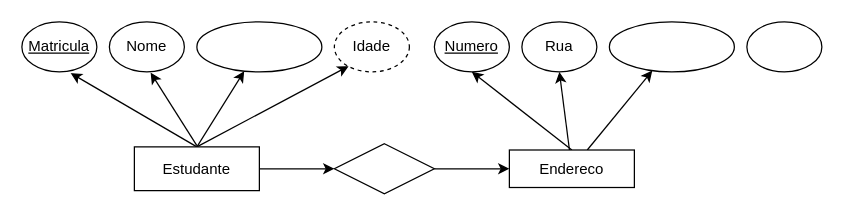
The diagram is 844 pixels wide and 216 high, and some of its shapes have lost their labels. The centre of each missing label's shape, as x and y in pixels:
"Bairro" belongs at point (671, 46).
"Cidade" belongs at point (784, 46).
"Data de Nascimento" belongs at point (259, 46).
"Mora" belongs at point (383, 168).
